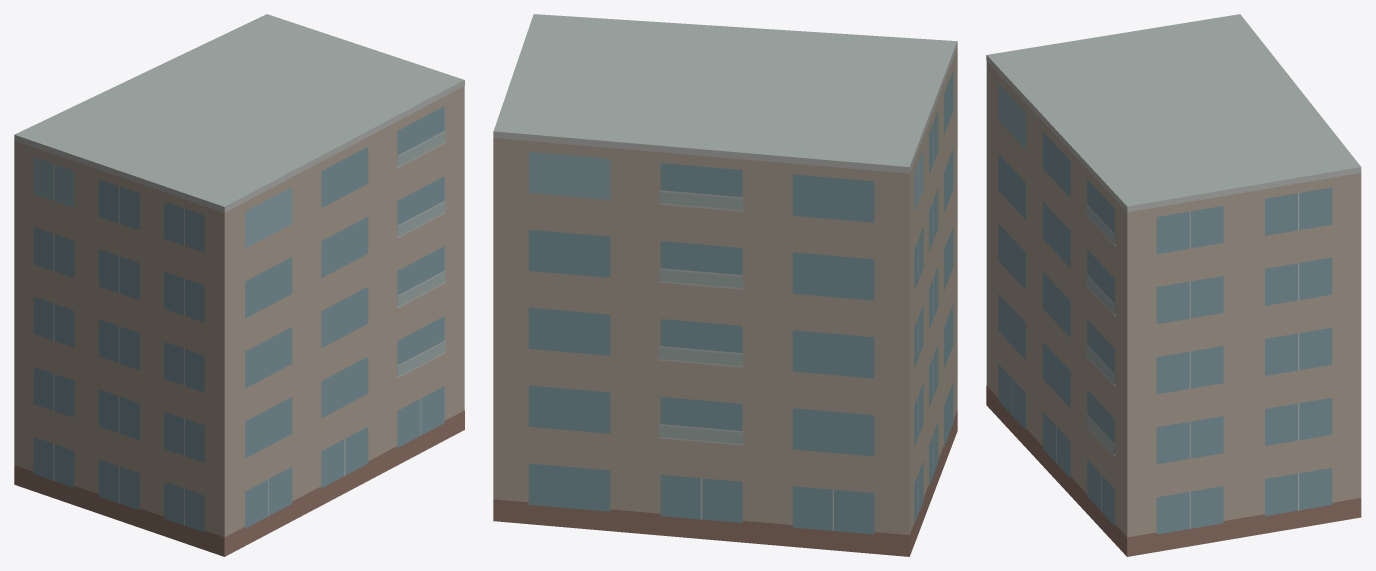
File: survey-upis-32761776.glb
The picture shows the model from 3 angles, left to right: view 1: azimuth 30°, elevation 25°; view 2: azimuth 150°, elevation 25°; view 3: azimuth 270°, elevation 25°; orthographic projection. The views are drawn at different scales.
Visible parts, largest first — view 1: survey-upis-32761776.tmp; view 2: survey-upis-32761776.tmp; view 3: survey-upis-32761776.tmp.
Part boxes in pixels (x1,y1,x2,y2): survey-upis-32761776.tmp: (14, 14, 464, 556); survey-upis-32761776.tmp: (493, 14, 957, 556); survey-upis-32761776.tmp: (986, 14, 1361, 556).
Bounding box in the file's own units: 17.09 × 14.5 × 14.07.
